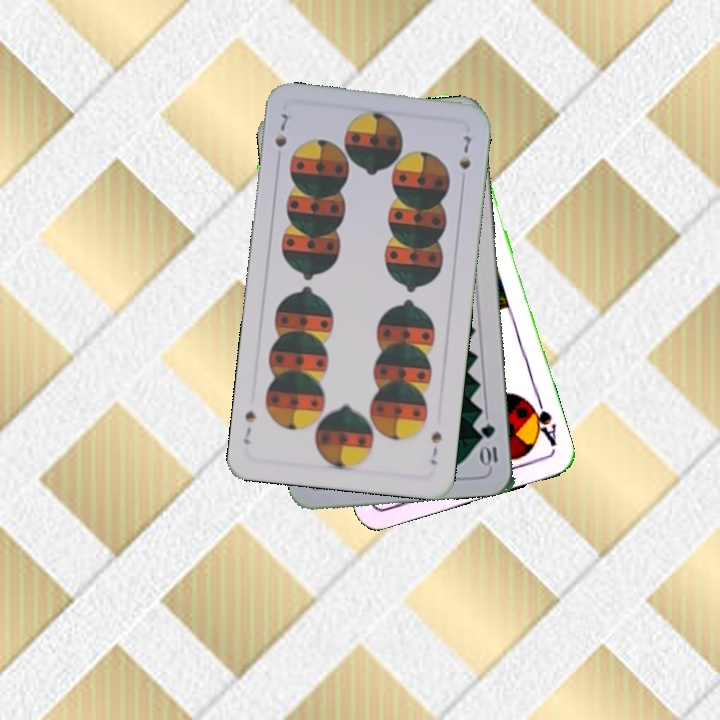G10: (477, 420, 500, 468)
S7: (270, 109, 290, 150), (426, 427, 445, 467)
SA: (523, 393, 559, 449)
